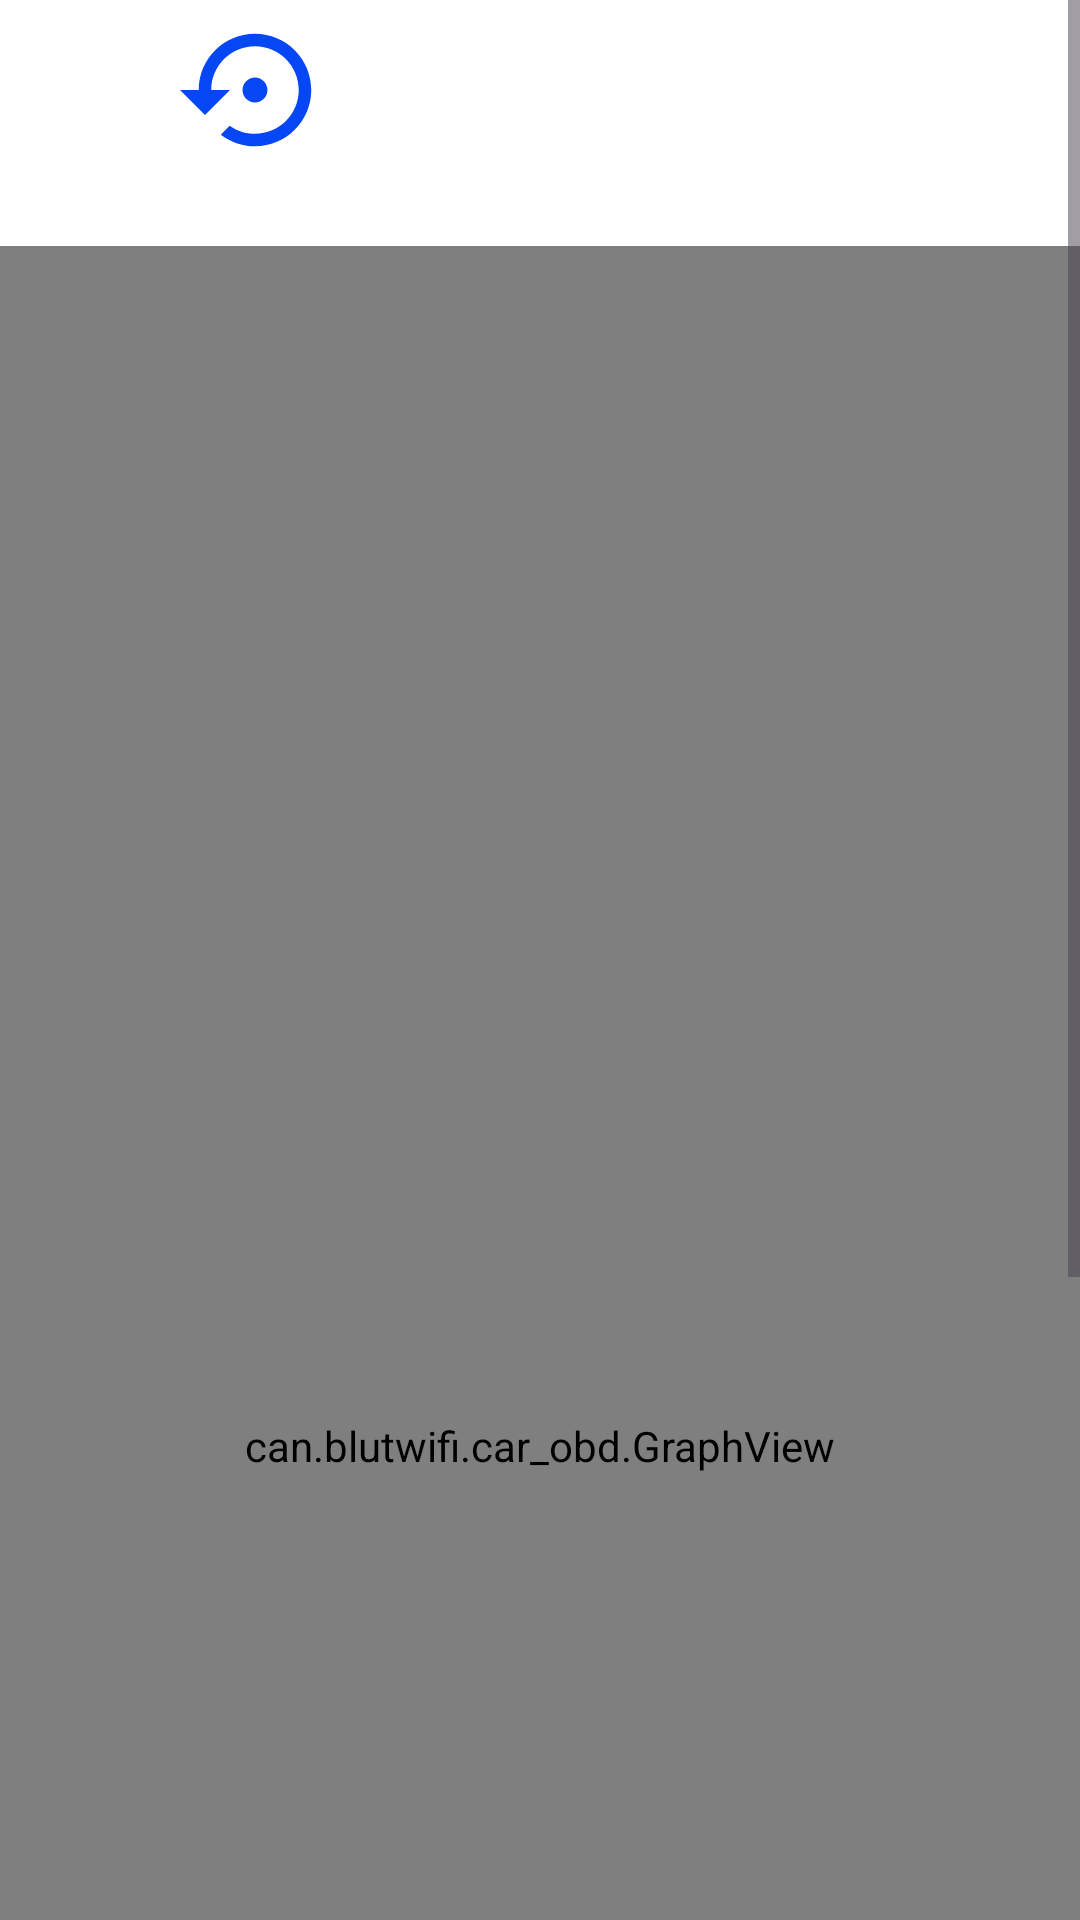

Where icons sit on this 1080 x 1920 app screen, as (x1=x1, y1=y1, x2=x2, y2=y2):
settings backup restore: (x1=180, y1=33, x2=312, y2=147)
